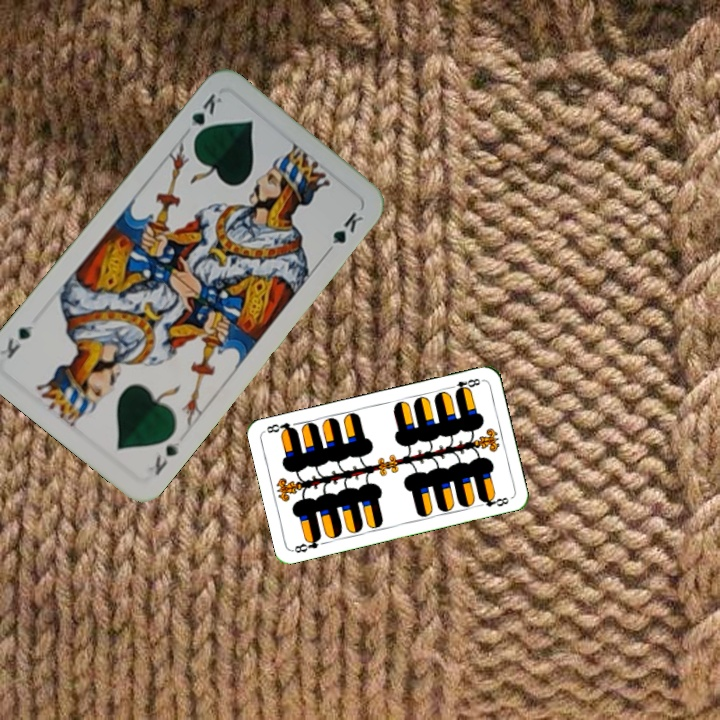E8: (445, 374, 485, 396), (289, 532, 324, 556)
GK: (187, 89, 225, 143), (142, 436, 184, 479)
